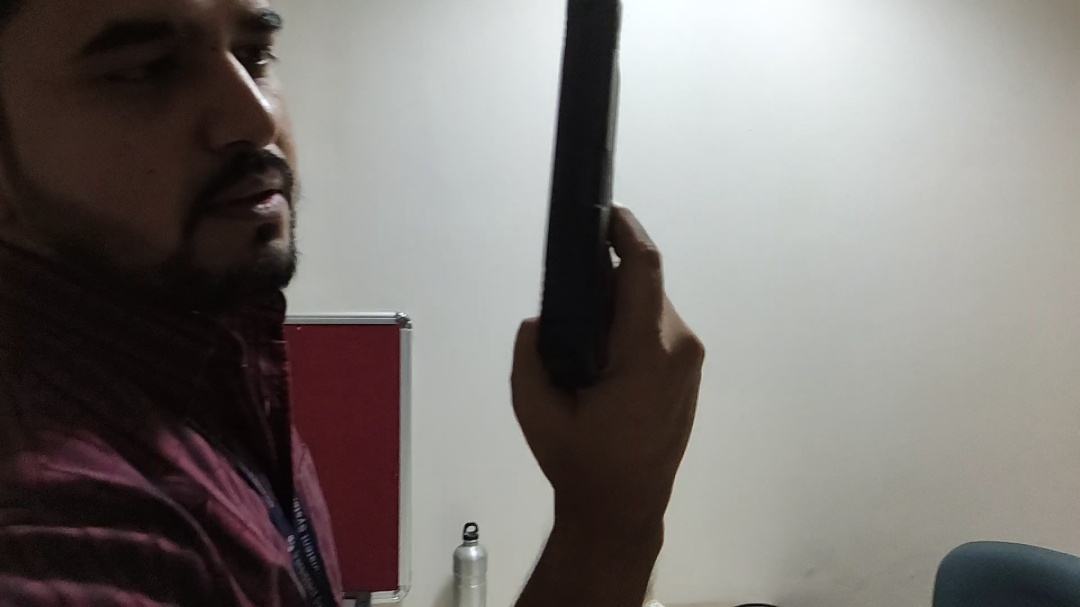gun: (513, 3, 658, 404)
